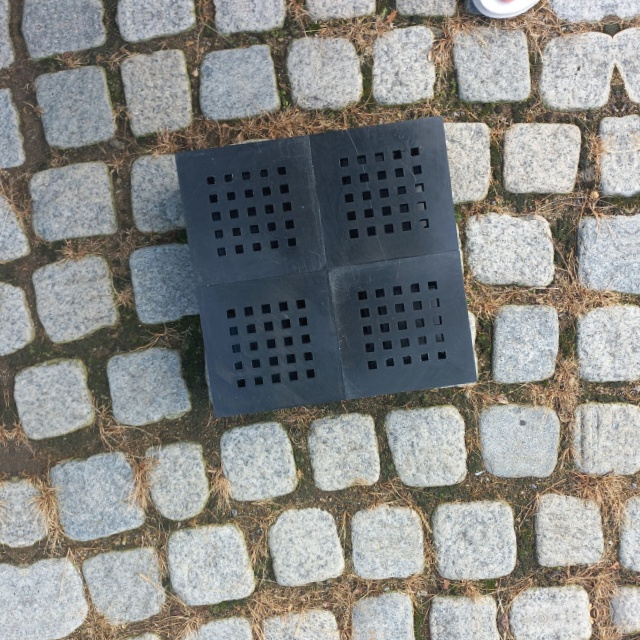pallet: (165, 113, 481, 427)
